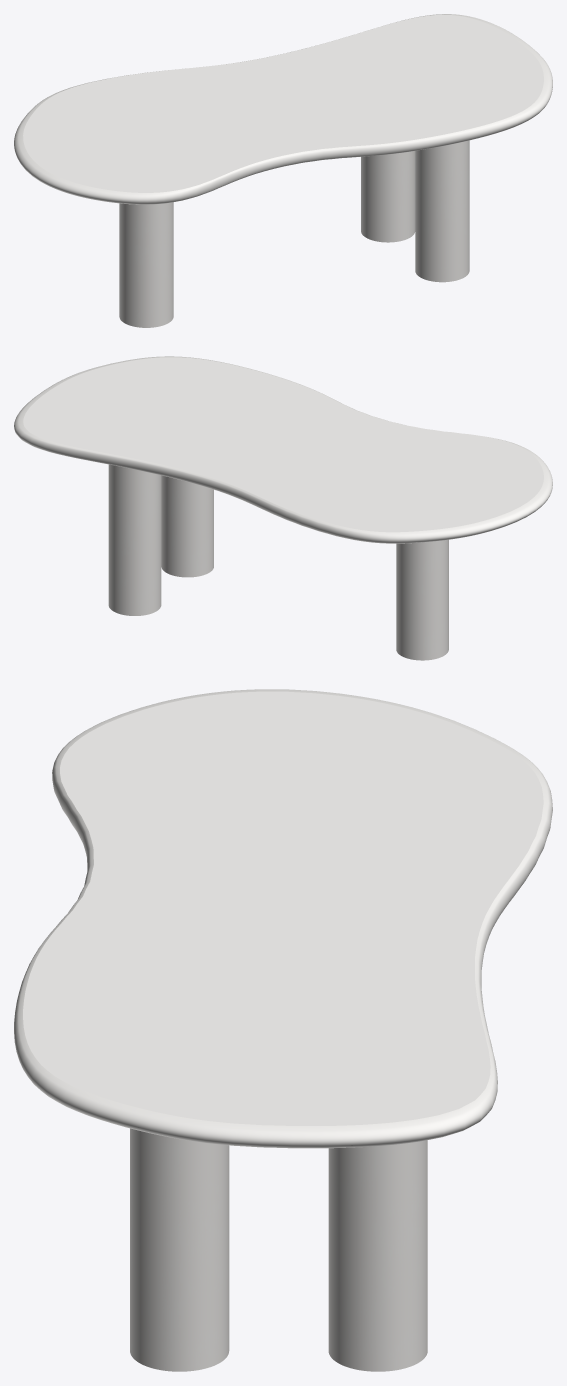
The model's file is purewhite_wave_round_cylinder.glb.
The picture shows the model from 3 angles, top to bottom: view 1: azimuth 30°, elevation 25°; view 2: azimuth 150°, elevation 25°; view 3: azimuth 270°, elevation 25°; orthographic projection. The views are drawn at different scales.
Parts seen in each view (by area): view 1: round_wave, cylinder; view 2: round_wave, cylinder; view 3: round_wave, cylinder.
Part boxes in pixels (x1,y1,x2,y2): round_wave: (14,14,552,204); cylinder: (119,140,469,327); round_wave: (14,356,552,543); cylinder: (108,464,448,660); round_wave: (14,689,552,1148); cylinder: (130,1128,427,1371).
Bounding box in the file's own units: 7.5 × 2.52 × 3.8.
Materials: 1 (1 with a texture image).
